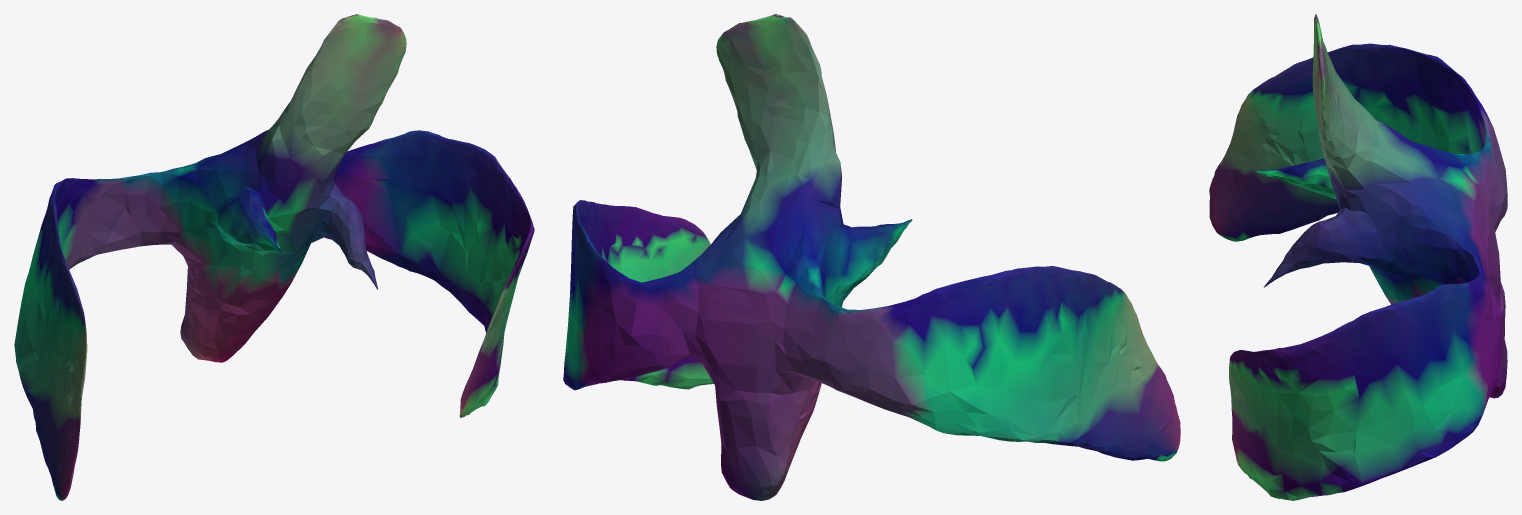
Rendered from bird2-19.off.obj.
The picture shows the model from 3 angles, left to right: view 1: azimuth 30°, elevation 25°; view 2: azimuth 150°, elevation 25°; view 3: azimuth 270°, elevation 25°; orthographic projection. The views are drawn at different scales.
Bounding box in the file's own units: 1.28 × 0.9647 × 0.6201.
